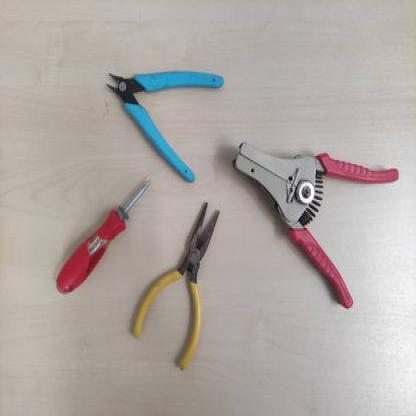Screwdriverrotation: (53, 176, 153, 296)
